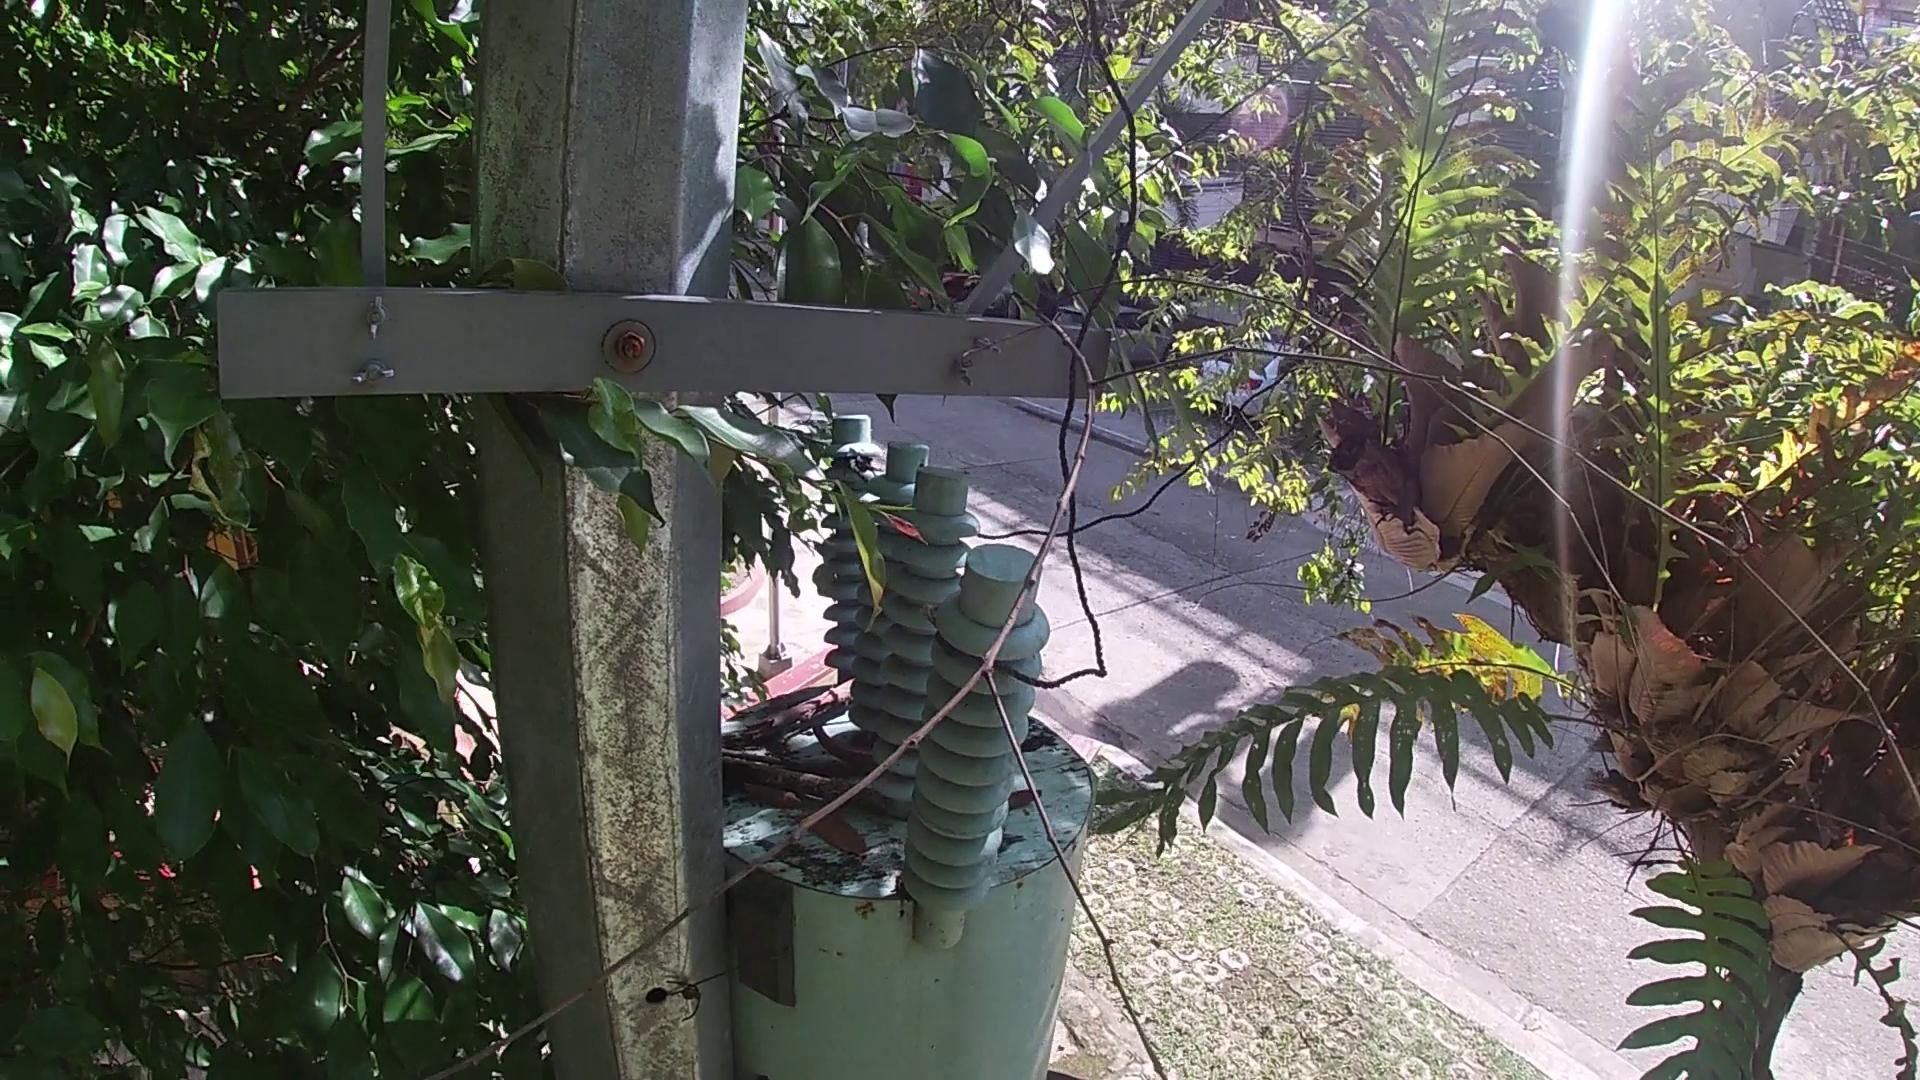leaf: (793, 814, 877, 858), (723, 785, 814, 810)
mahogany fruit: (803, 713, 880, 767), (1004, 781, 1042, 829)
tree branch: (396, 241, 1917, 1069), (716, 758, 907, 819), (723, 684, 869, 754), (713, 738, 855, 771)
